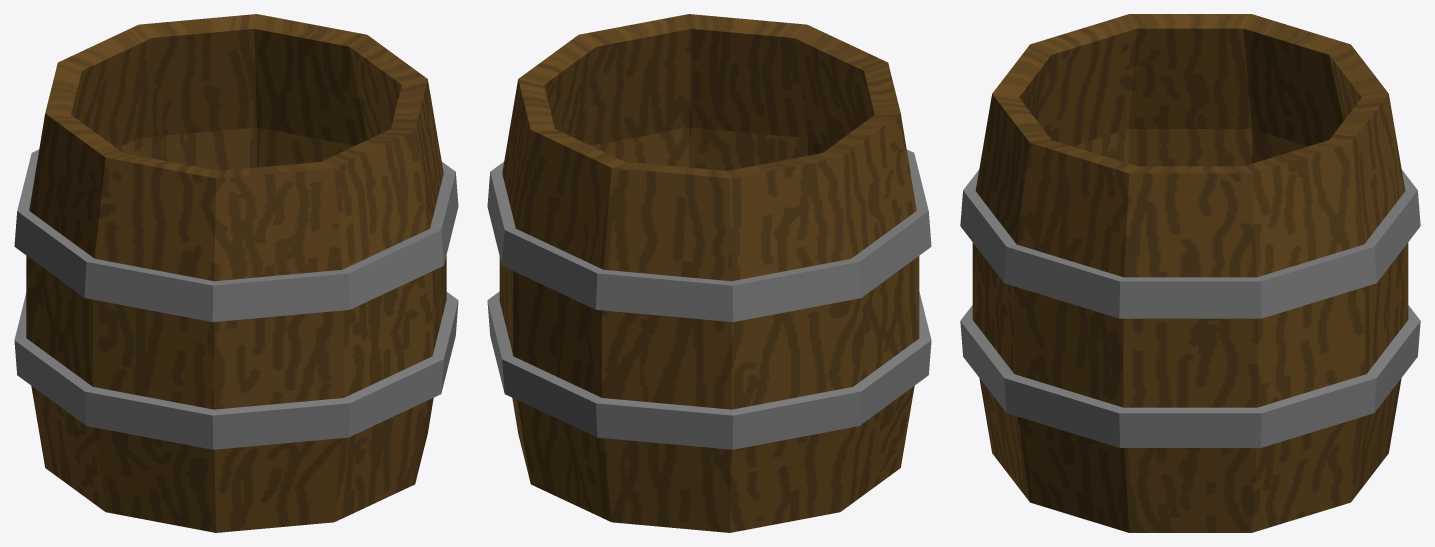
The model's file is barrel_empty.fbx.
The picture shows the model from 3 angles, left to right: view 1: azimuth 30°, elevation 25°; view 2: azimuth 150°, elevation 25°; view 3: azimuth 270°, elevation 25°; orthographic projection.
Parts seen in each view (by area): view 1: barrel_empty; view 2: barrel_empty; view 3: barrel_empty.
Boxes of the visible parts, <box> form: barrel_empty: <box>14,14,458,532</box>; barrel_empty: <box>487,14,931,532</box>; barrel_empty: <box>960,14,1420,532</box>.
Size of the model in its own units: 161 by 146 by 169.
